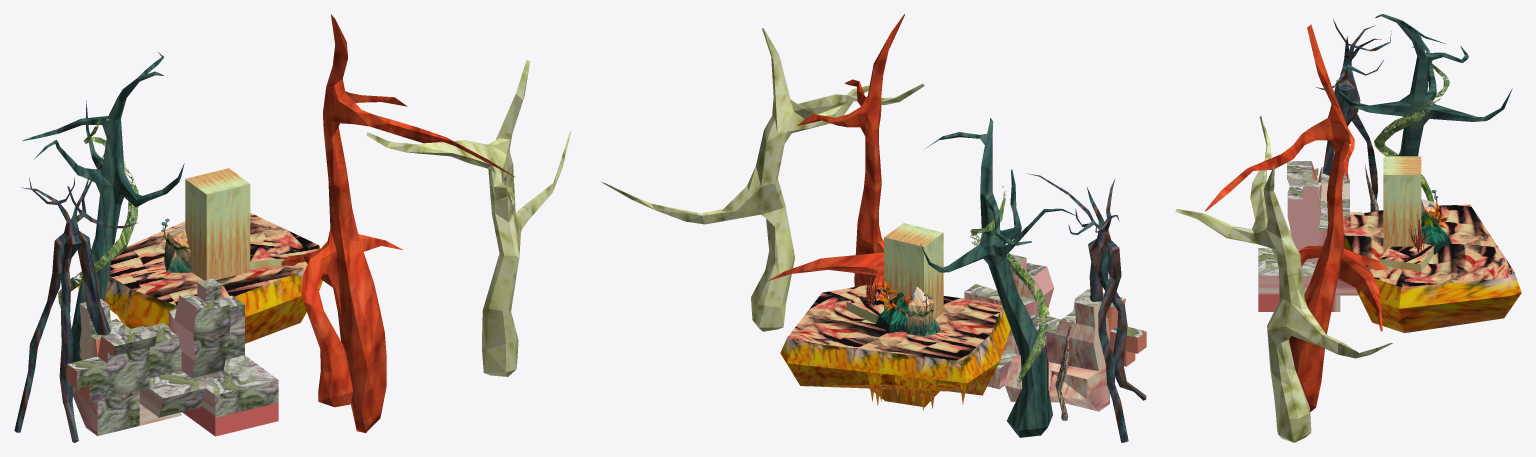
File: Island_2.gltf
3 views of the same model, side by side, from view 1: azimuth 30°, elevation 25°; view 2: azimuth 150°, elevation 25°; view 3: azimuth 270°, elevation 25° (orthographic). The views are drawn at different scales.
Parts seen in each view (by area): view 1: Island_2; view 2: Island_2; view 3: Island_2.
Boxes of the visible parts, <box> form: Island_2: <box>14,14,571,442</box>; Island_2: <box>601,14,1146,442</box>; Island_2: <box>1175,14,1521,442</box>.
Bounding box in the file's own units: 81.02 × 57.64 × 48.45.
135 materials, 135 textured.
